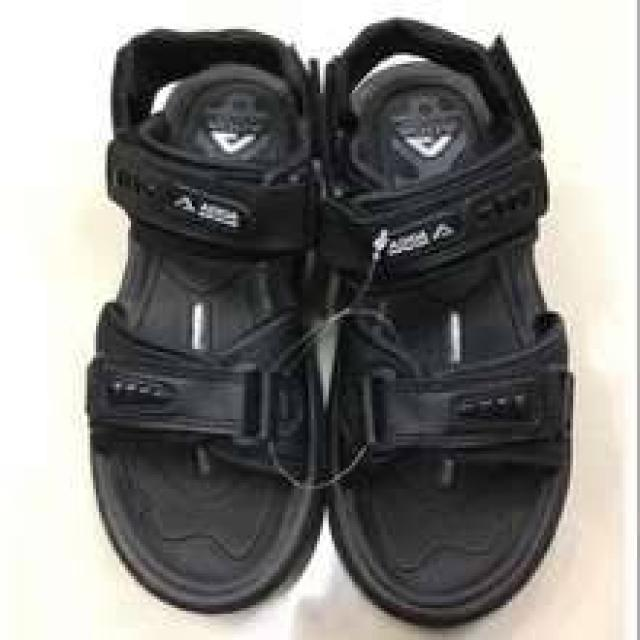shoe: (79, 25, 579, 635), (323, 20, 574, 630), (78, 29, 324, 612)
